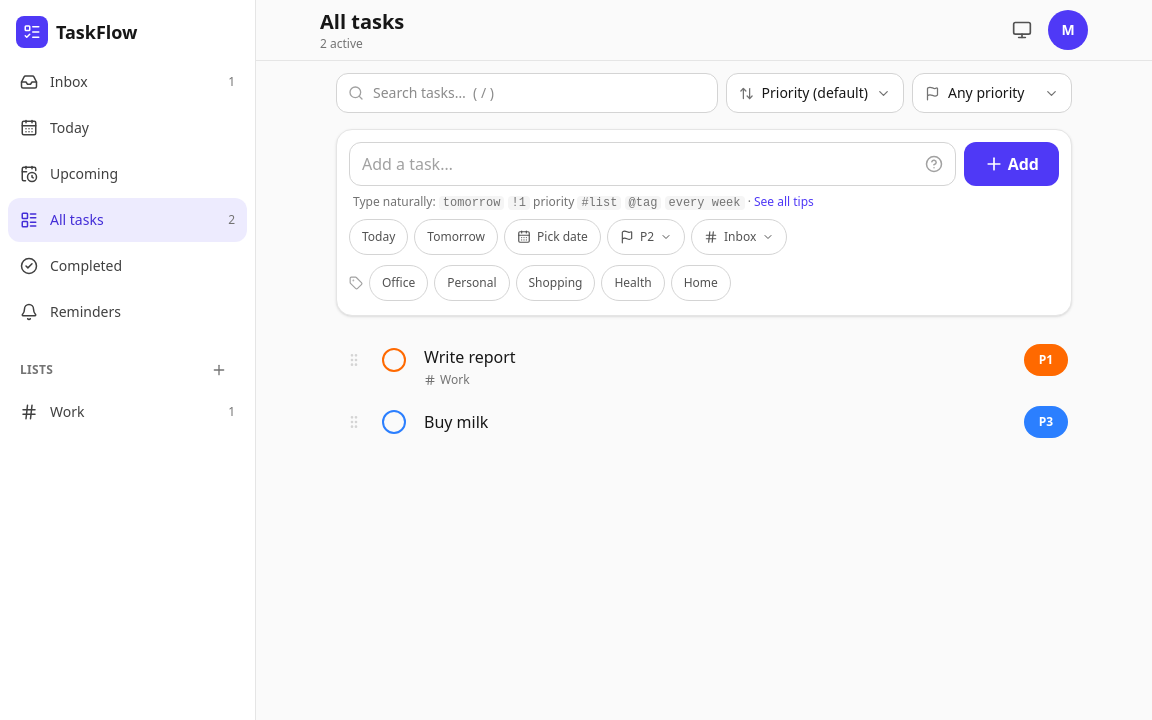
Test: TodoApp › filters by list from the sidebar
Expected: the text "Write report" is shown, [420,344,520,370]
Click the button "Work 1": coordinates (128, 412) [8,390,247,434]
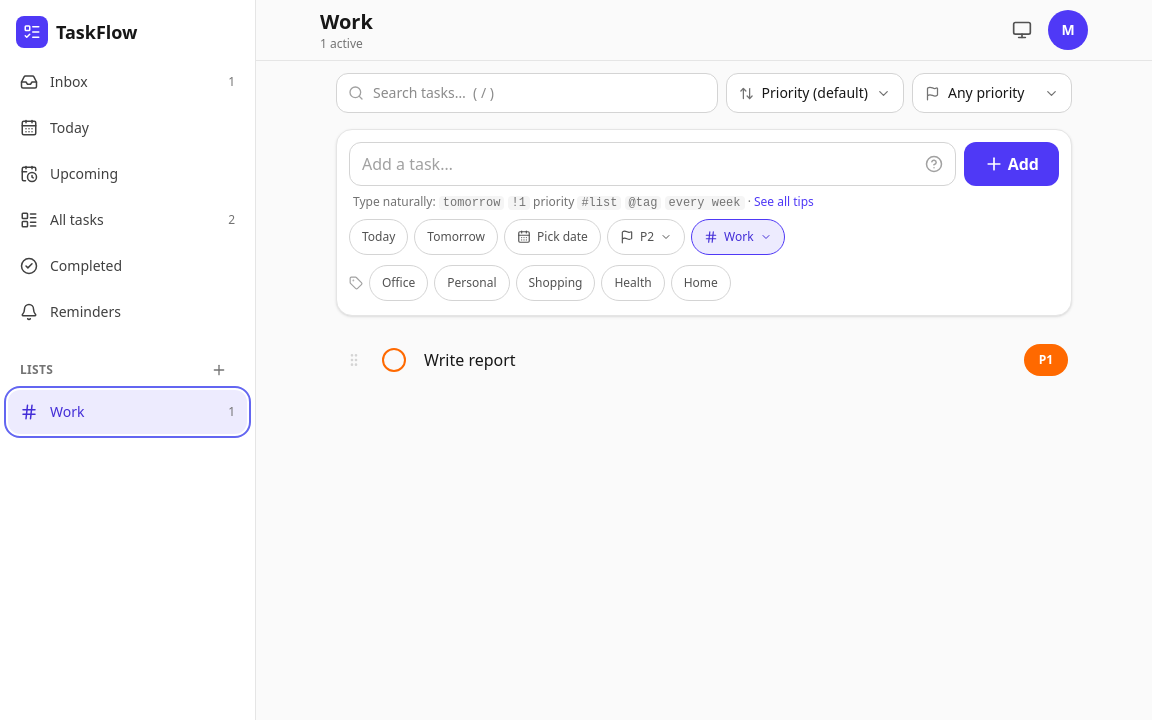
Expected: the number of list items is 1, [336,336,1072,384]
Expected: the list item shows "Write report", [420,338,1020,382]
